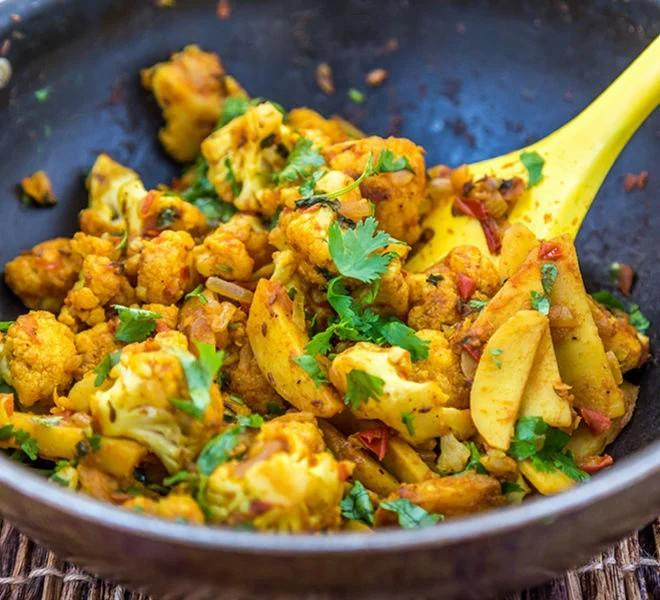AlooGobi: (0, 45, 649, 536)
